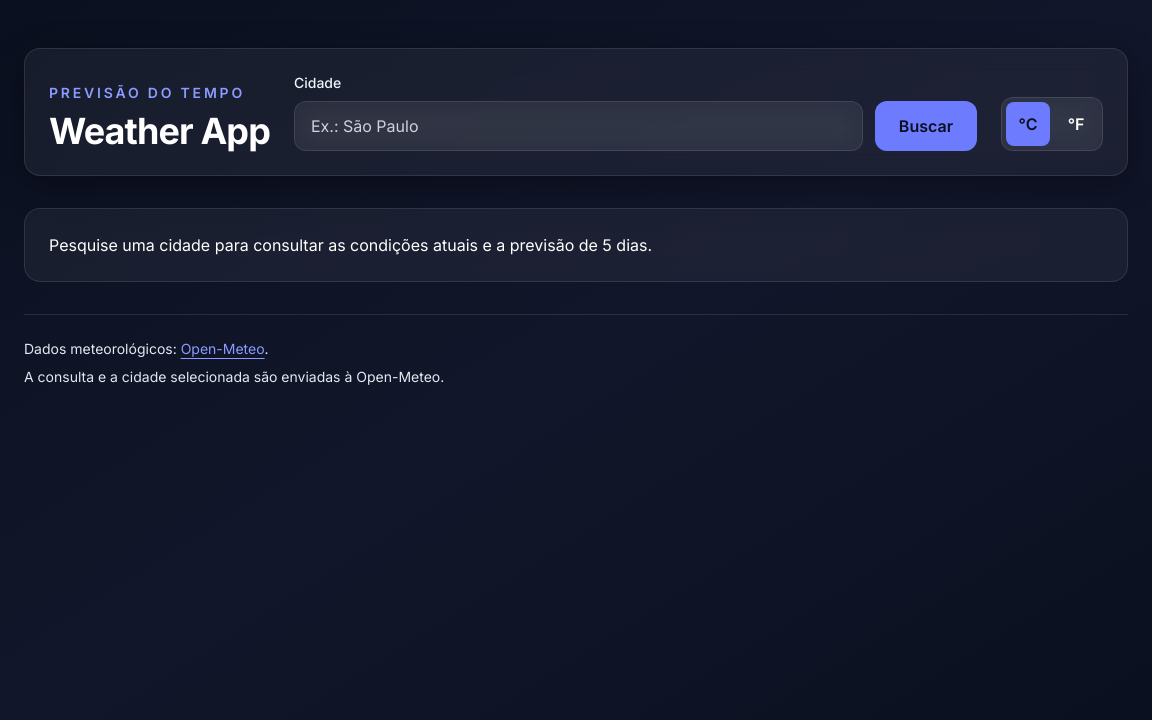
it: App integrado aos serviços via useWeather › busca confirmada mostra loading, desabilita busca/cidades e seleciona a primeira com cinco cards
Type "  São Paulo  " into the search field labelled "Cidade" at (578, 126), box [294,101,863,151]
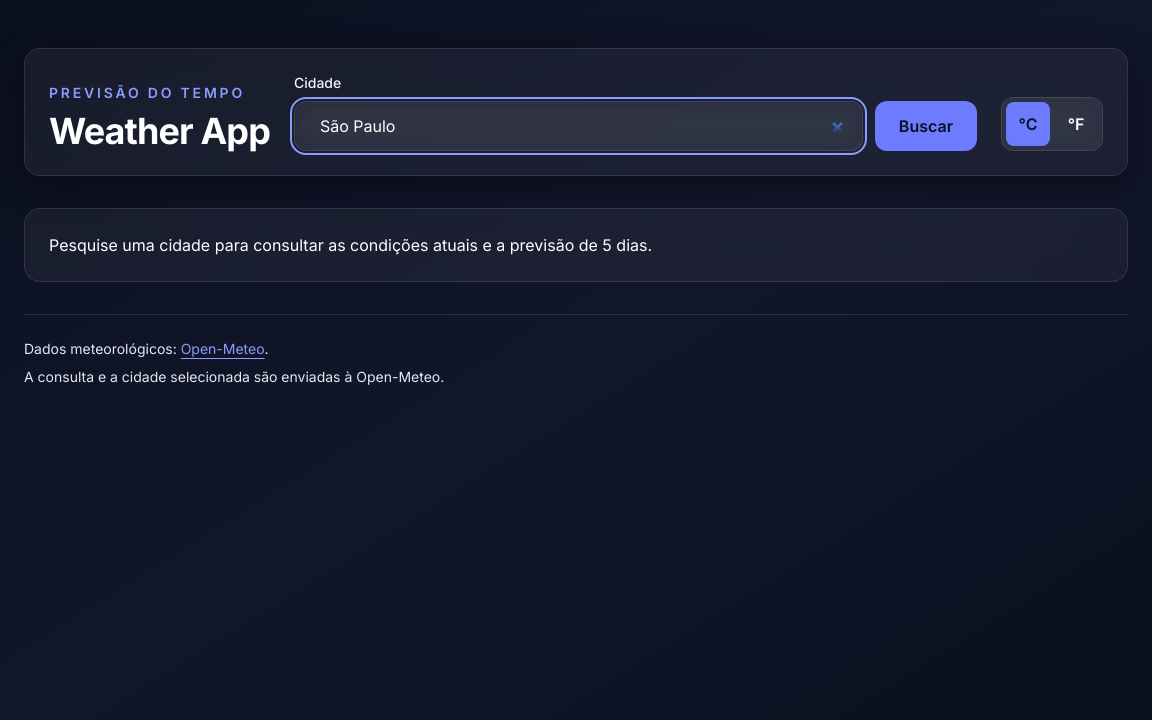
Click the button "Buscar" at (926, 126), box [875,101,977,151]
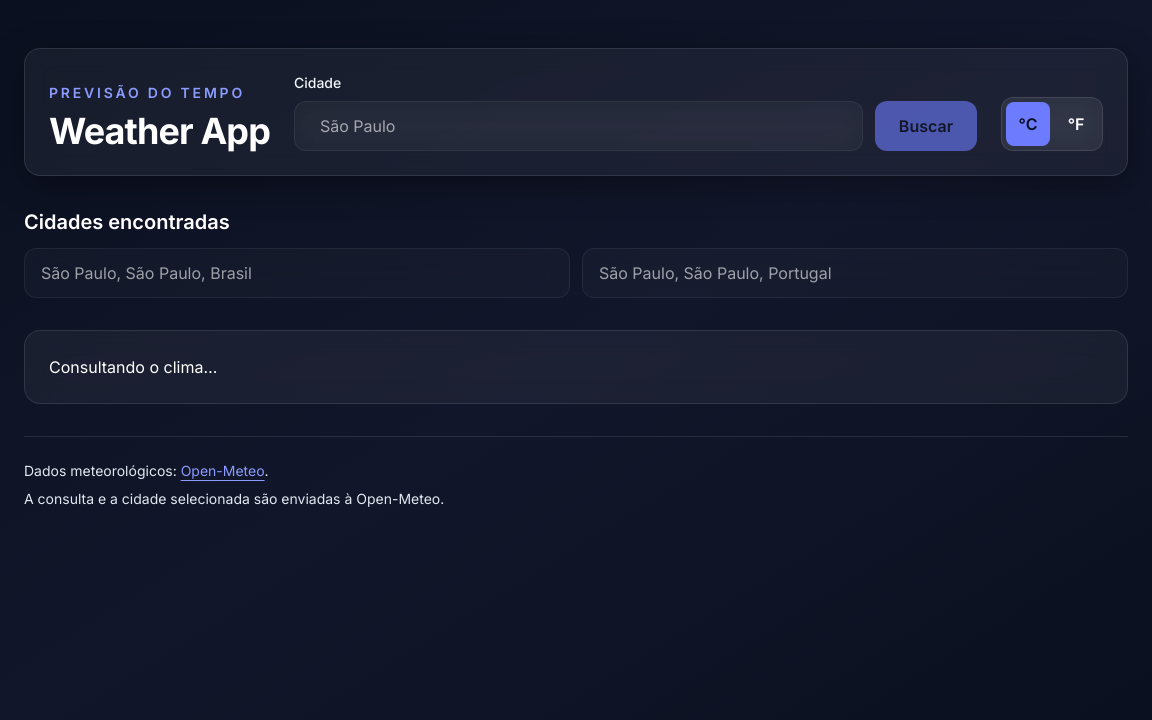
Result: the message shows "Consultando o clima" at [49,357,217,377]
Result: the search field labelled "Cidade" is disabled at [294,101,863,151]
Result: the button "Buscar" is disabled at [875,101,977,151]
Click the button "São Paulo, São Paulo, Portugal" at (715, 273), box [582,248,1128,298]
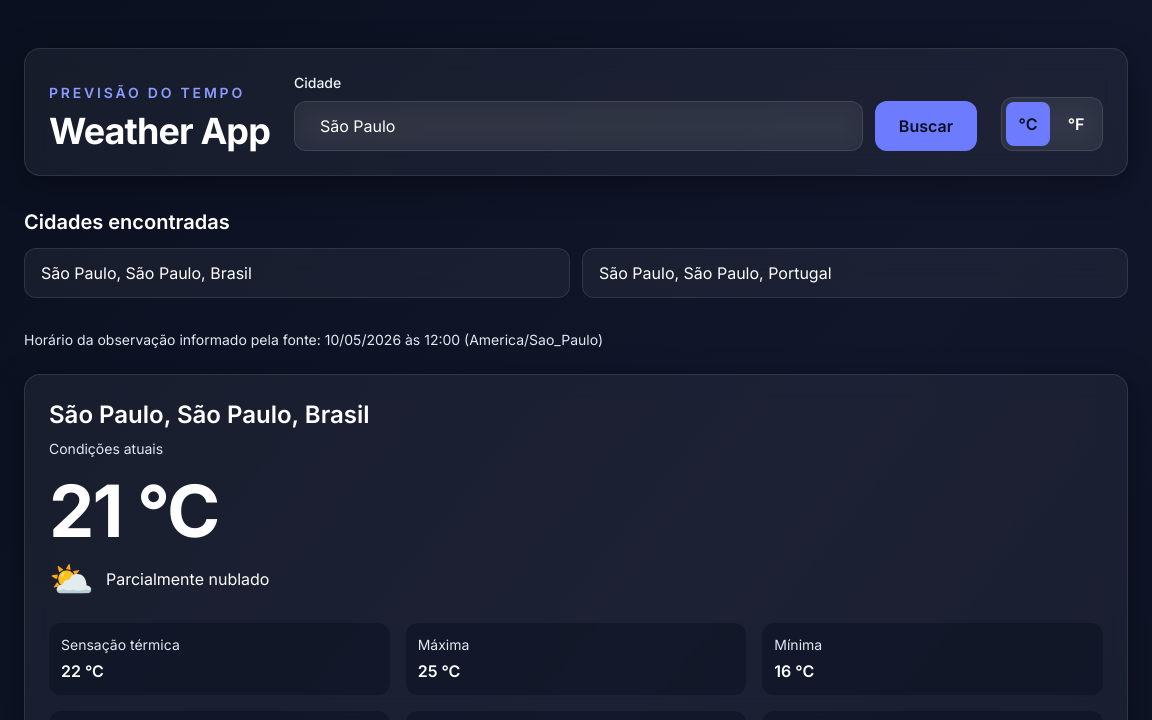
Result: the heading "São Paulo, São Paulo, Brasil" is shown at [49,400,370,429]
Result: the search field labelled "Cidade" is enabled at [294,101,863,151]
Result: the message "Consultando o clima…" is gone
